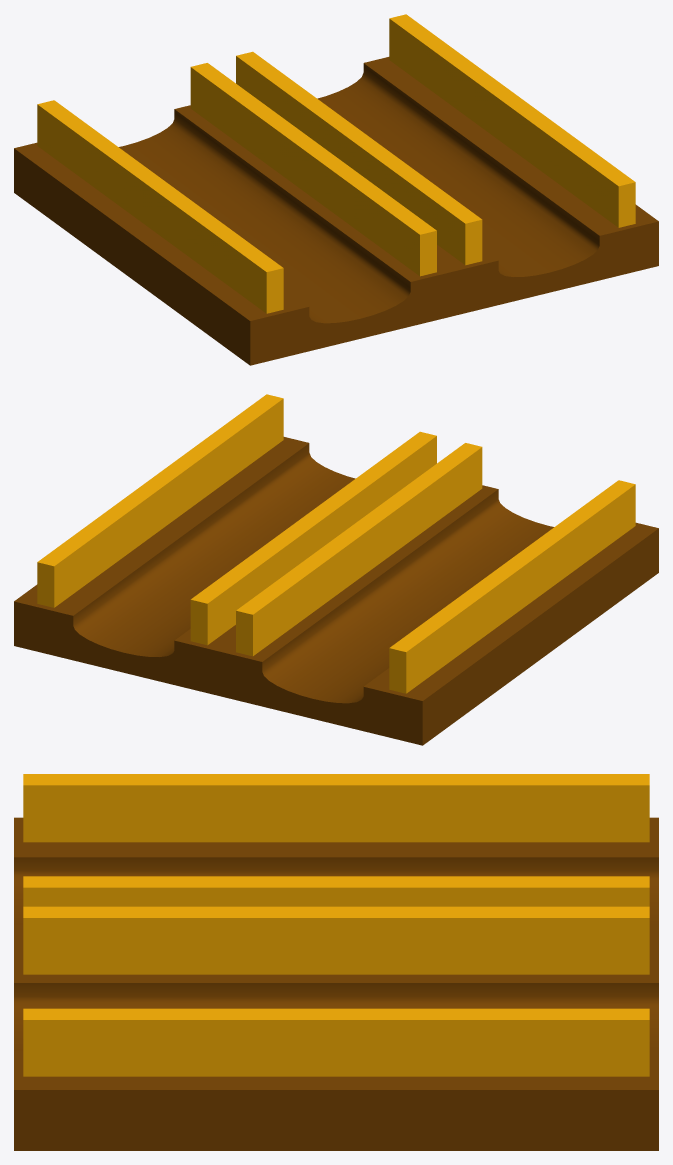
The model's file is Ferme.fbx.
3 views of the same model, one above another, from view 1: azimuth 30°, elevation 25°; view 2: azimuth 150°, elevation 25°; view 3: azimuth 270°, elevation 25° (orthographic). The views are drawn at different scales.
Visible parts, largest first — view 1: building_door_double_19, straight_borders_18, straight_borders_20; view 2: building_door_double_19, straight_borders_18, straight_borders_20; view 3: building_door_double_19, straight_borders_20, straight_borders_18.
Boxes of the visible parts, x1=… form: building_door_double_19: x1=14, y1=57, x2=658, y2=365; straight_borders_18: x1=37, y1=63, x2=436, y2=313; straight_borders_20: x1=236, y1=14, x2=635, y2=265; building_door_double_19: x1=14, y1=437, x2=658, y2=745; straight_borders_18: x1=236, y1=443, x2=635, y2=693; straight_borders_20: x1=37, y1=394, x2=436, y2=645; building_door_double_19: x1=14, y1=817, x2=658, y2=1150; straight_borders_20: x1=23, y1=906, x2=649, y2=1076; straight_borders_18: x1=23, y1=774, x2=649, y2=906.
Size of the model in its own units: 28.8 by 5.8 by 28.83.
